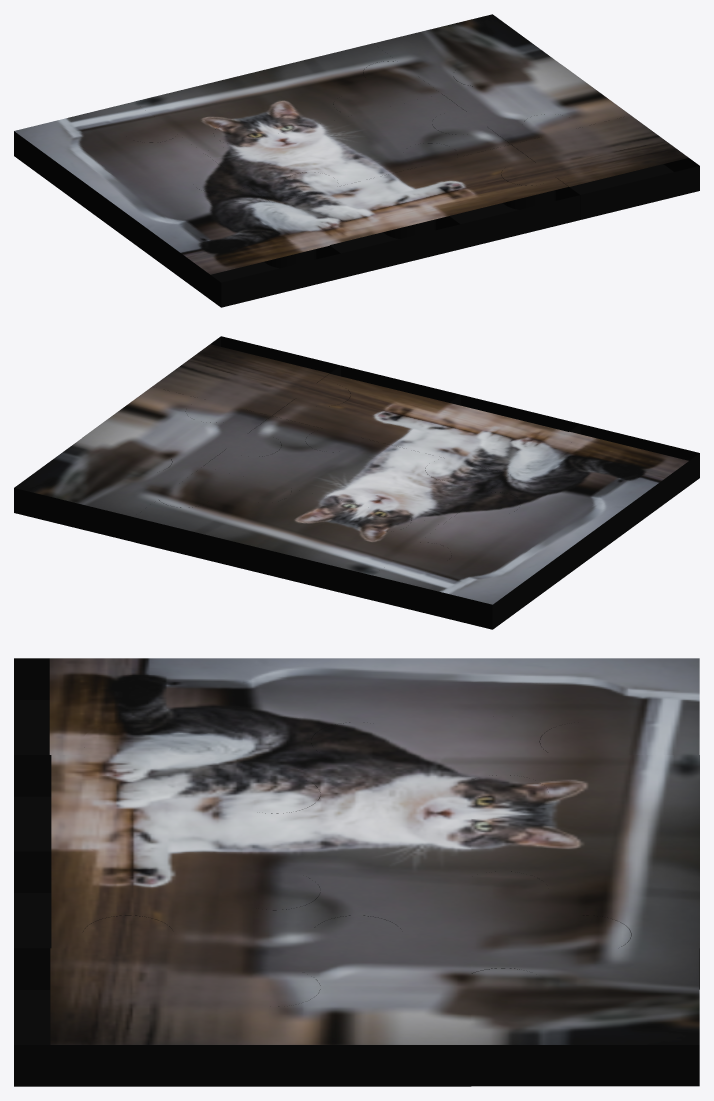
File: Puuzzle PAE_Final(4x3)_1.fbx
3 renders of one model, top to bottom at view 1: azimuth 30°, elevation 25°; view 2: azimuth 150°, elevation 25°; view 3: azimuth 270°, elevation 25°, orthographic. The views are drawn at different scales.
Visible parts, largest first — view 1: Puzle 2_Pieza_12, Puzle 2_Pieza_9, Puzle 2_Pieza_10, Puzle 2_Pieza_11, Puzle 2_Pieza_8, Puzle 2_Pieza_5, Puzle 2_Pieza_6, Puzle 2_Pieza_7, Puzle 2_Pieza_4, Puzle 2_Pieza_1, Puzle 2_Pieza_3, Puzle 2_Pieza_2; view 2: Puzle 2_Pieza_4, Puzle 2_Pieza_1, Puzle 2_Pieza_3, Puzle 2_Pieza_2, Puzle 2_Pieza_12, Puzle 2_Pieza_9, Puzle 2_Pieza_10, Puzle 2_Pieza_11, Puzle 2_Pieza_8, Puzle 2_Pieza_5, Puzle 2_Pieza_6, Puzle 2_Pieza_7; view 3: Puzle 2_Pieza_12, Puzle 2_Pieza_8, Puzle 2_Pieza_4, Puzle 2_Pieza_11, Puzle 2_Pieza_9, Puzle 2_Pieza_10, Puzle 2_Pieza_7, Puzle 2_Pieza_6, Puzle 2_Pieza_3, Puzle 2_Pieza_5, Puzle 2_Pieza_2, Puzle 2_Pieza_1.
Boxes of the visible parts, box(x1,y1,x2,y2) form: Puzle 2_Pieza_12: box(501, 114, 699, 219); Puzle 2_Pieza_9: box(152, 201, 340, 307); Puzle 2_Pieza_10: box(262, 172, 460, 278); Puzle 2_Pieza_11: box(381, 143, 579, 248); Puzle 2_Pieza_8: box(432, 63, 630, 144); Puzle 2_Pieza_5: box(83, 151, 271, 256); Puzle 2_Pieza_6: box(193, 121, 390, 202); Puzle 2_Pieza_7: box(312, 92, 510, 173); Puzle 2_Pieza_4: box(363, 14, 561, 93); Puzle 2_Pieza_1: box(14, 102, 202, 206); Puzle 2_Pieza_3: box(243, 43, 441, 122); Puzle 2_Pieza_2: box(123, 72, 321, 152); Puzle 2_Pieza_4: box(14, 437, 212, 541); Puzle 2_Pieza_1: box(373, 525, 561, 629); Puzle 2_Pieza_3: box(133, 466, 332, 571); Puzle 2_Pieza_2: box(253, 496, 451, 600); Puzle 2_Pieza_12: box(152, 336, 350, 422); Puzle 2_Pieza_9: box(511, 424, 699, 528); Puzle 2_Pieza_10: box(392, 394, 589, 481); Puzle 2_Pieza_11: box(272, 365, 470, 452); Puzle 2_Pieza_8: box(83, 387, 281, 473); Puzle 2_Pieza_5: box(442, 474, 630, 578); Puzle 2_Pieza_6: box(322, 445, 520, 531); Puzle 2_Pieza_7: box(203, 416, 401, 502); Puzle 2_Pieza_12: box(14, 915, 320, 1086); Puzle 2_Pieza_8: box(242, 915, 548, 1086); Puzle 2_Pieza_4: box(471, 915, 699, 1086); Puzle 2_Pieza_11: box(14, 819, 320, 948); Puzle 2_Pieza_9: box(14, 658, 320, 796); Puzle 2_Pieza_10: box(14, 722, 320, 851); Puzle 2_Pieza_7: box(242, 819, 548, 948); Puzle 2_Pieza_6: box(242, 722, 548, 851); Puzle 2_Pieza_3: box(471, 819, 699, 989); Puzle 2_Pieza_5: box(242, 658, 548, 754); Puzle 2_Pieza_2: box(471, 722, 699, 851); Puzle 2_Pieza_1: box(471, 658, 699, 754).
Bounding box in the file's own units: 4002 × 200 × 3001.
Materials: 1 (1 with a texture image).
